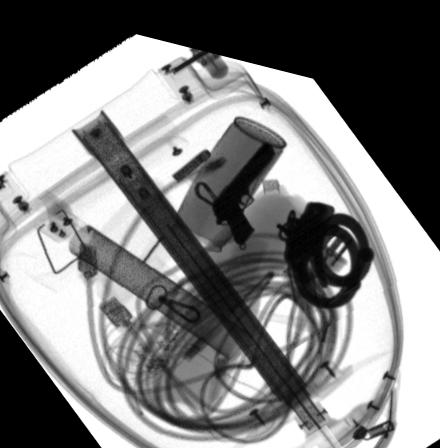Gun: (210, 124, 277, 238)
HandCuffs: (276, 187, 377, 293)
